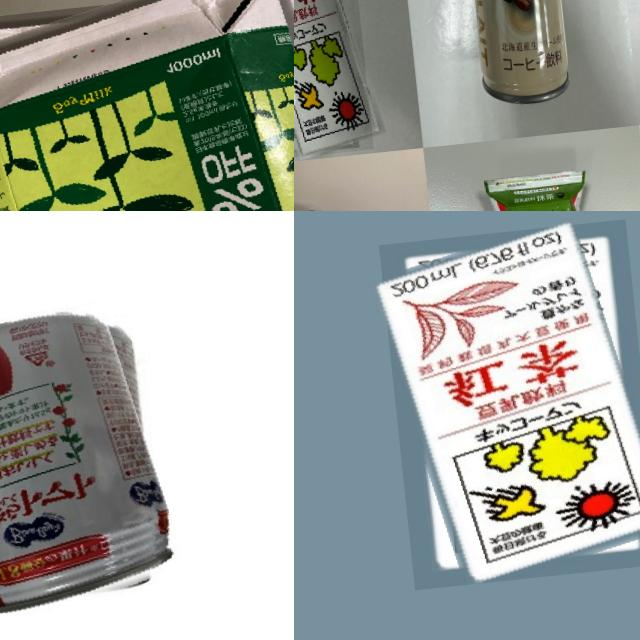Aluminium Foil: (378, 219, 640, 590), (0, 0, 294, 211), (294, 0, 373, 161)
Can: (0, 292, 176, 626), (453, 0, 578, 104)
